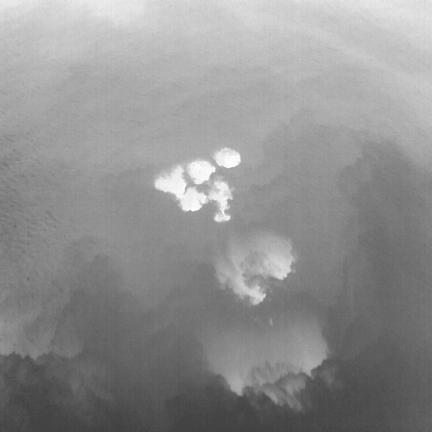flukeprints: (266, 239, 294, 279), (155, 165, 186, 200), (207, 177, 232, 220), (187, 159, 215, 184), (180, 186, 208, 210), (213, 148, 240, 167)
